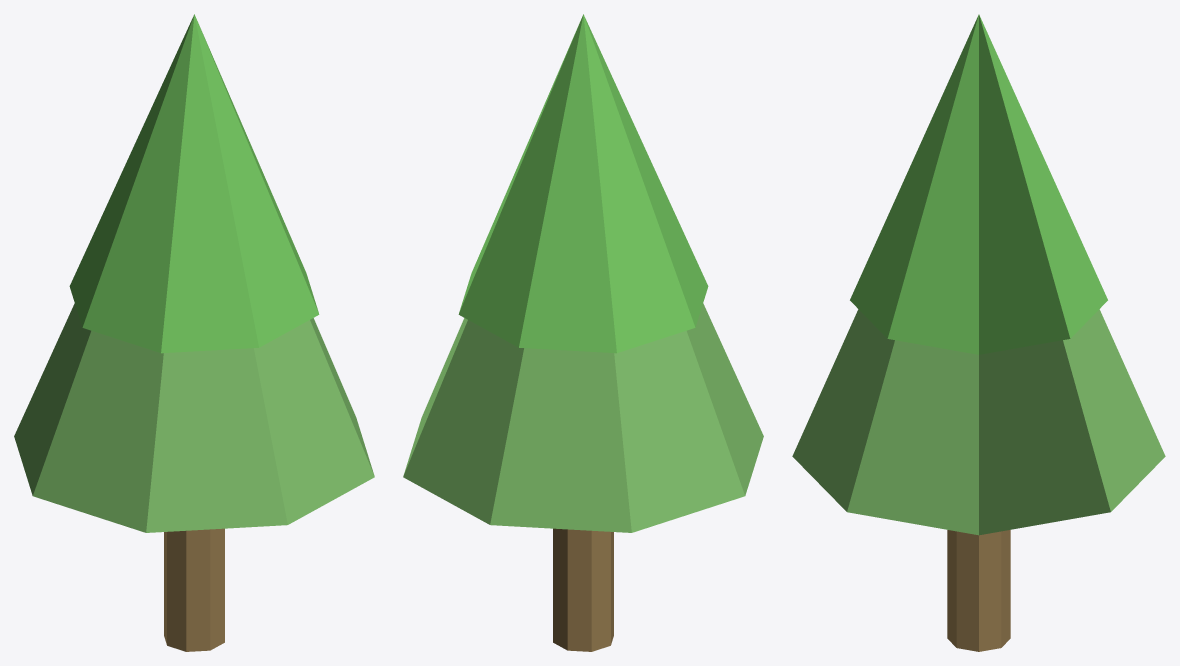
Rendered from Tree.glb.
3 renders of one model, left to right at view 1: azimuth 30°, elevation 25°; view 2: azimuth 150°, elevation 25°; view 3: azimuth 270°, elevation 25°, orthographic.
Parts seen in each view (by area): view 1: Tree; view 2: Tree; view 3: Tree.
Boxes of the visible parts, <box> form: Tree: <box>14,14,374,651</box>; Tree: <box>403,14,763,651</box>; Tree: <box>792,14,1165,651</box>.
Size of the model in its own units: 2.6 by 4.8 by 2.6.
